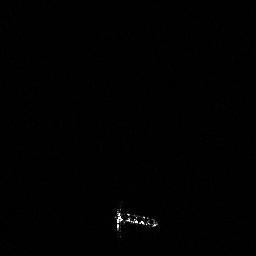ship: (111, 203, 161, 237)
